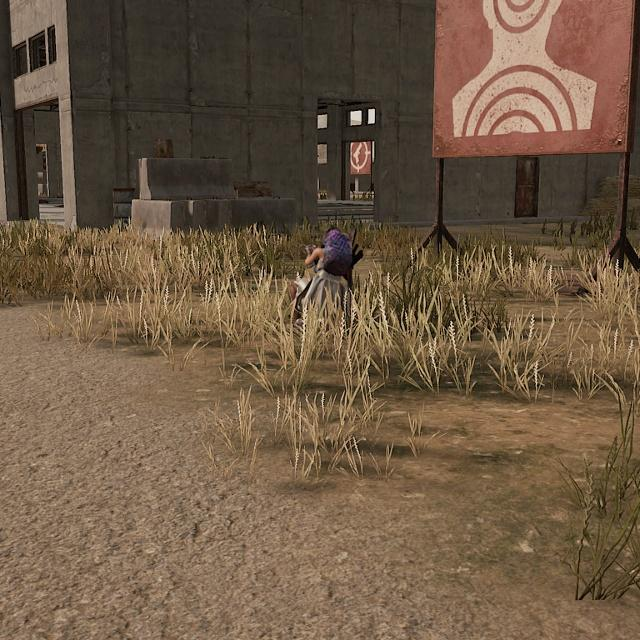people: (282, 229, 362, 332)
